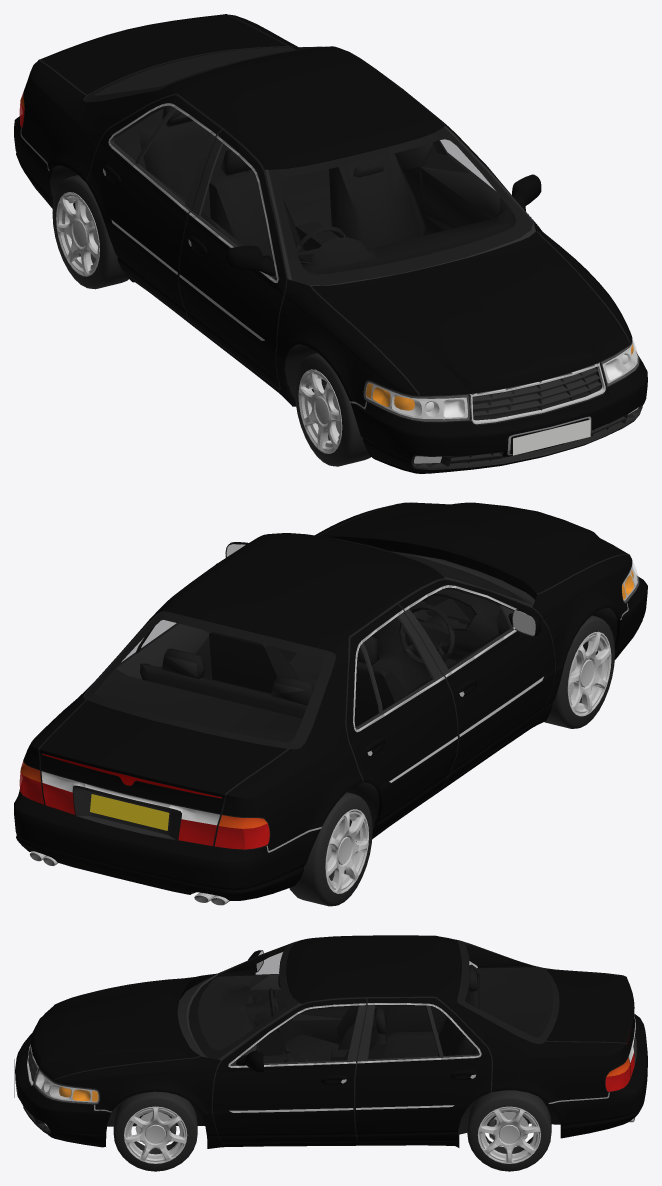
File: sedan.glb
3 renders of one model, top to bottom at view 1: azimuth 30°, elevation 25°; view 2: azimuth 150°, elevation 25°; view 3: azimuth 270°, elevation 25°, orthographic. The views are drawn at different scales.
Parts seen in each view (by area): view 1: Body (×4), Door_Front_0, Body_Glass, Interior_Static#static, Door_Left_1 (×4), Door_Left_0 (×4), Door_Rear_0, Wheel_0_1 (×3), Wheel_1_1 (×3), Door_Right_0#static (×2), Lamp_Housings, Body#static (×2) (+4 smaller); view 2: Body (×3), Interior_Static#static (×2), Body_Glass, Door_Left_1 (×4), Door_Left_0 (×4), Door_Rear_0 (×2), Door_Front_0, Wheel_1_1 (×3), Lamp_Housings (×2), Wheel_0_1 (×3), Door_Right_1#static, Light_Brake_Left#static (+5 smaller); view 3: Body (×3), Door_Right_0 (×5), Door_Right_1 (×5), Interior_Static#static, Body_Glass, Door_Front_0, Wheel_1_0 (×3), Wheel_0_0 (×3), Door_Rear_0, Door_Left_0#static (×2), Lamp_Housings (×2), Door_Left_1#static (+4 smaller).
Boxes of the visible parts, x1,y1,x2,y2 form: Body (×4): (14,14,647,473); Door_Front_0: (312,231,629,395); Body_Glass: (85,46,530,284); Interior_Static#static: (95,46,515,274); Door_Left_1 (×4): (87,95,220,310); Door_Left_0 (×4): (177,129,286,379); Door_Rear_0: (40,14,287,94); Wheel_0_1 (×3): (295,353,370,466); Wheel_1_1 (×3): (52,175,128,289); Door_Right_0#static (×2): (420,153,508,235); Lamp_Housings: (364,338,638,420); Body#static (×2): (363,340,639,458); Body (×3): (14,502,647,900); Interior_Static#static (×2): (94,555,515,741); Body_Glass: (85,537,525,748); Door_Left_1 (×4): (346,605,457,821); Door_Left_0 (×4): (397,580,555,773); Door_Rear_0 (×2): (38,699,289,813); Door_Front_0: (319,502,628,599); Wheel_1_1 (×3): (289,792,372,906); Lamp_Housings (×2): (19,561,638,849); Wheel_0_1 (×3): (545,615,614,728); Door_Right_1#static: (116,623,211,679); Light_Brake_Left#static: (178,819,269,849); Body (×3): (15,935,647,1148); Door_Right_0 (×5): (213,998,368,1135); Door_Right_1 (×5): (356,998,491,1134); Interior_Static#static: (197,944,553,1063); Body_Glass: (189,941,558,1058); Door_Front_0: (30,976,201,1080); Wheel_1_0 (×3): (467,1090,551,1171); Wheel_0_0 (×3): (113,1092,197,1171); Door_Rear_0: (546,969,634,1055); Door_Left_0#static (×2): (249,974,349,1055); Lamp_Housings (×2): (34,1034,634,1103); Door_Left_1#static: (384,1005,444,1035).
Bounding box in the file's own units: 2.09 × 1.42 × 5.03.
